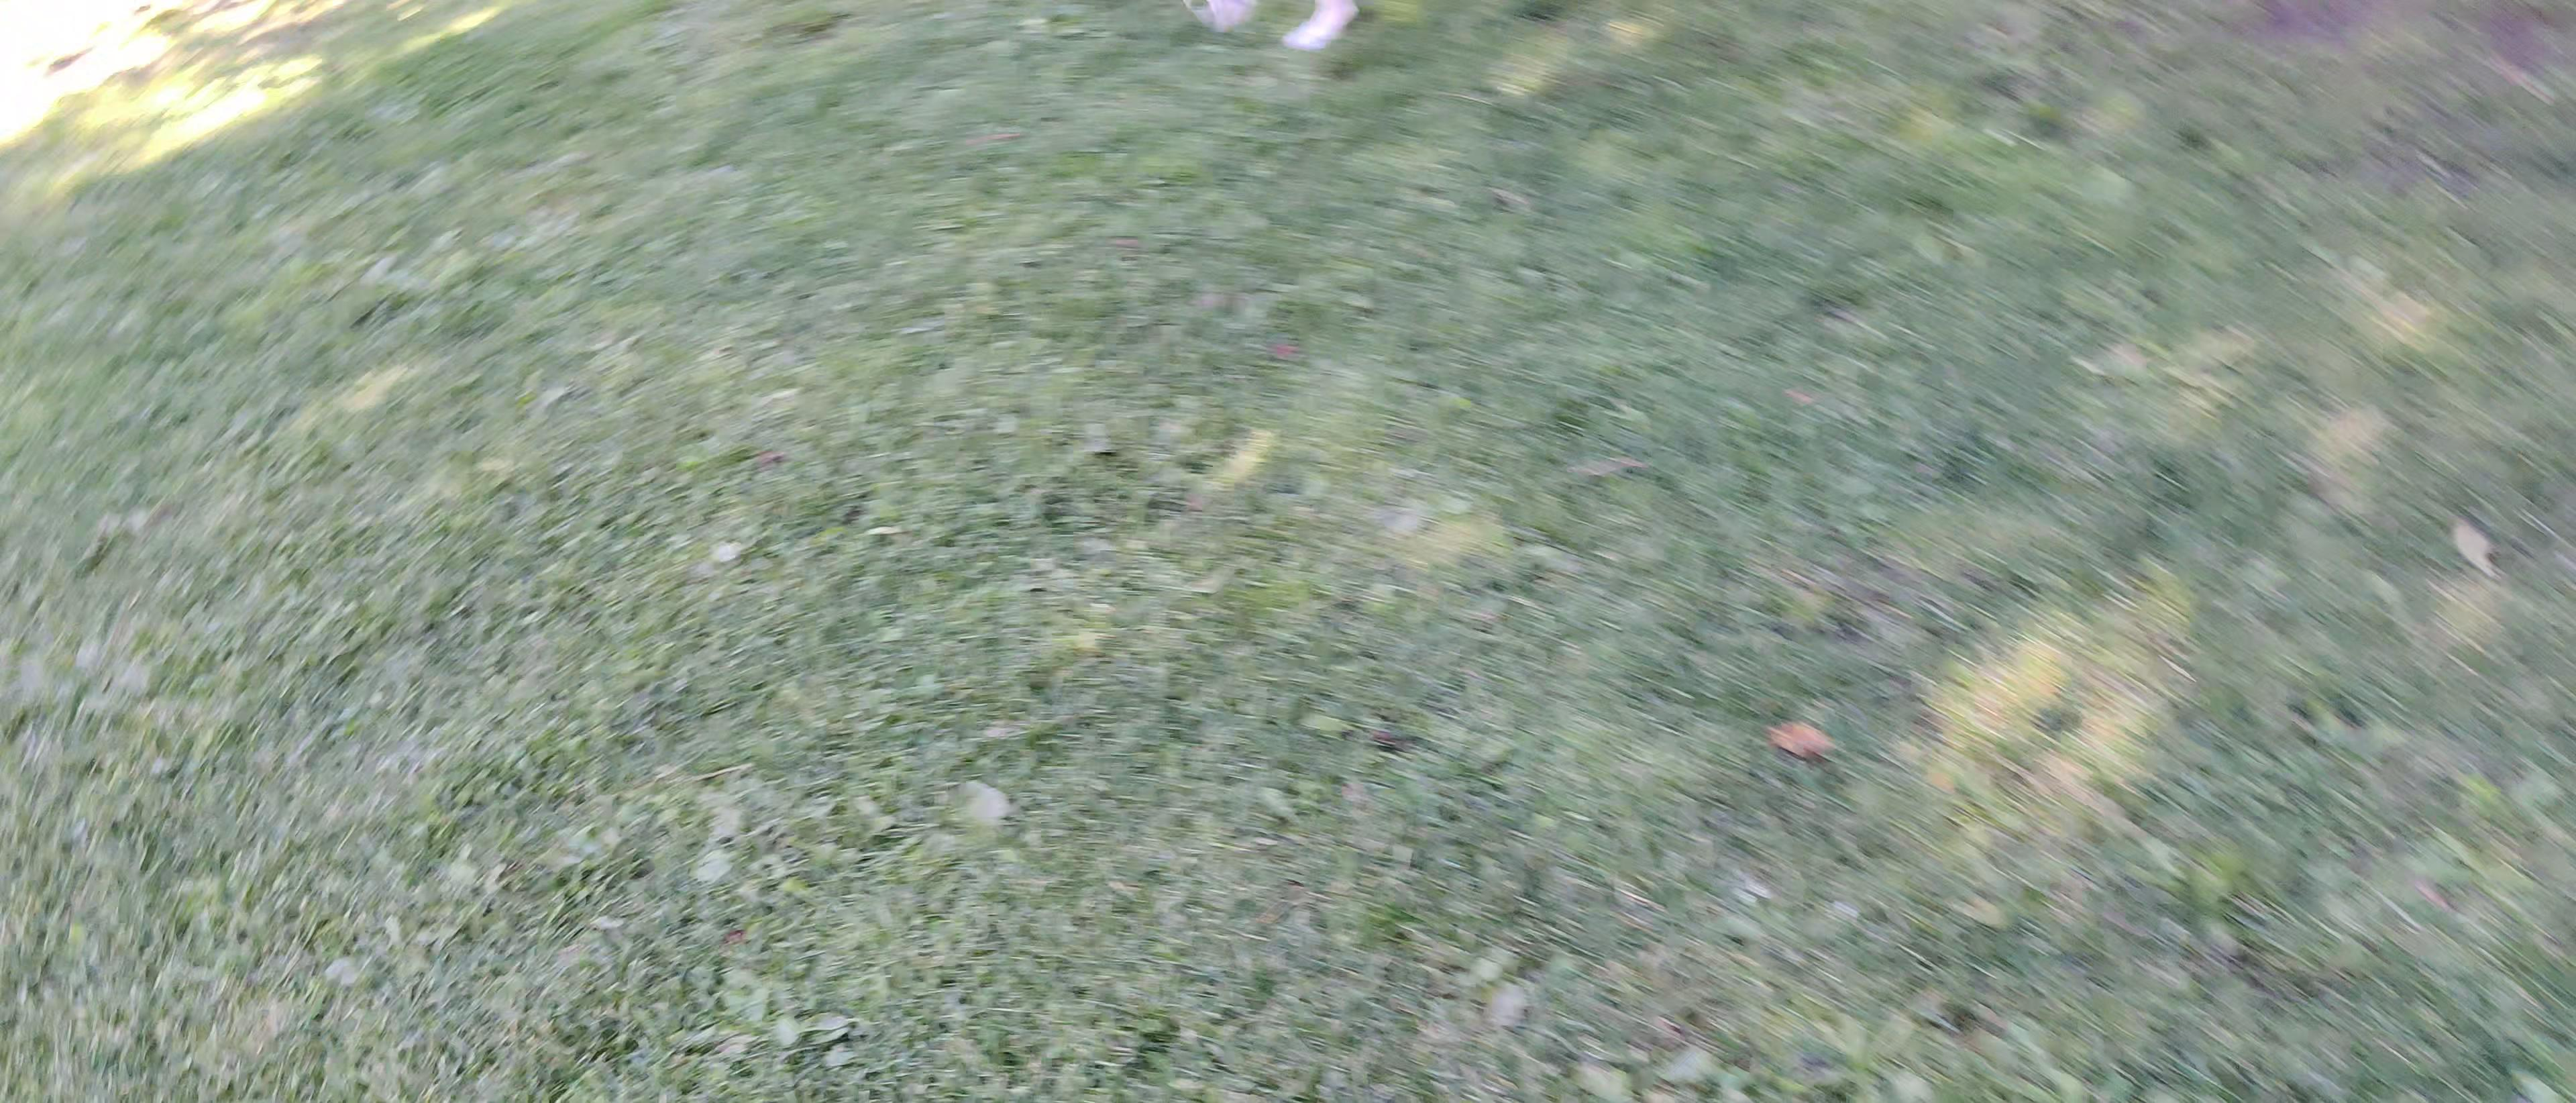Dog: (1270, 0, 1372, 49)
